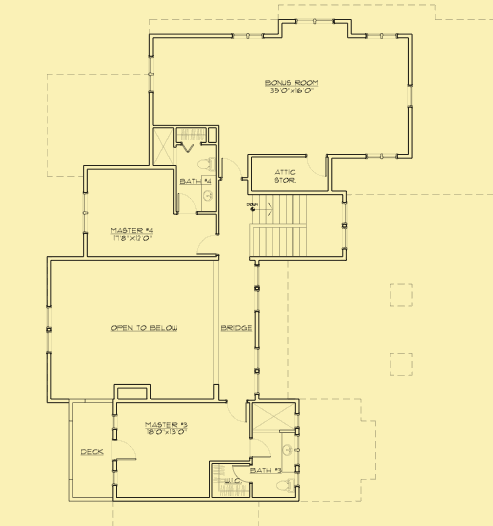door: (109, 439, 138, 460), (224, 401, 248, 426), (304, 154, 330, 177), (218, 156, 241, 181), (248, 437, 273, 460), (195, 234, 218, 257), (176, 191, 197, 215), (232, 464, 254, 482)
large_sink: (195, 153, 216, 175), (276, 476, 297, 495)
small_sink: (280, 432, 296, 473)
stairs: (244, 193, 349, 261)
window: (43, 302, 56, 356), (81, 189, 91, 233), (360, 30, 401, 40), (227, 31, 267, 41), (363, 153, 401, 162), (148, 52, 154, 92)
